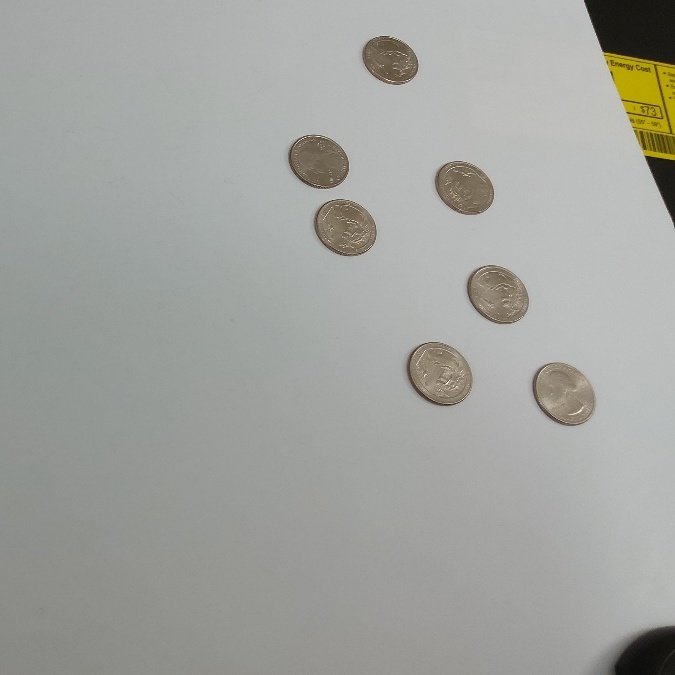coin_quarter: (405, 334, 477, 408), (526, 355, 598, 428), (466, 260, 534, 325), (357, 24, 422, 86), (433, 157, 498, 218), (315, 197, 380, 258), (287, 131, 352, 192)
